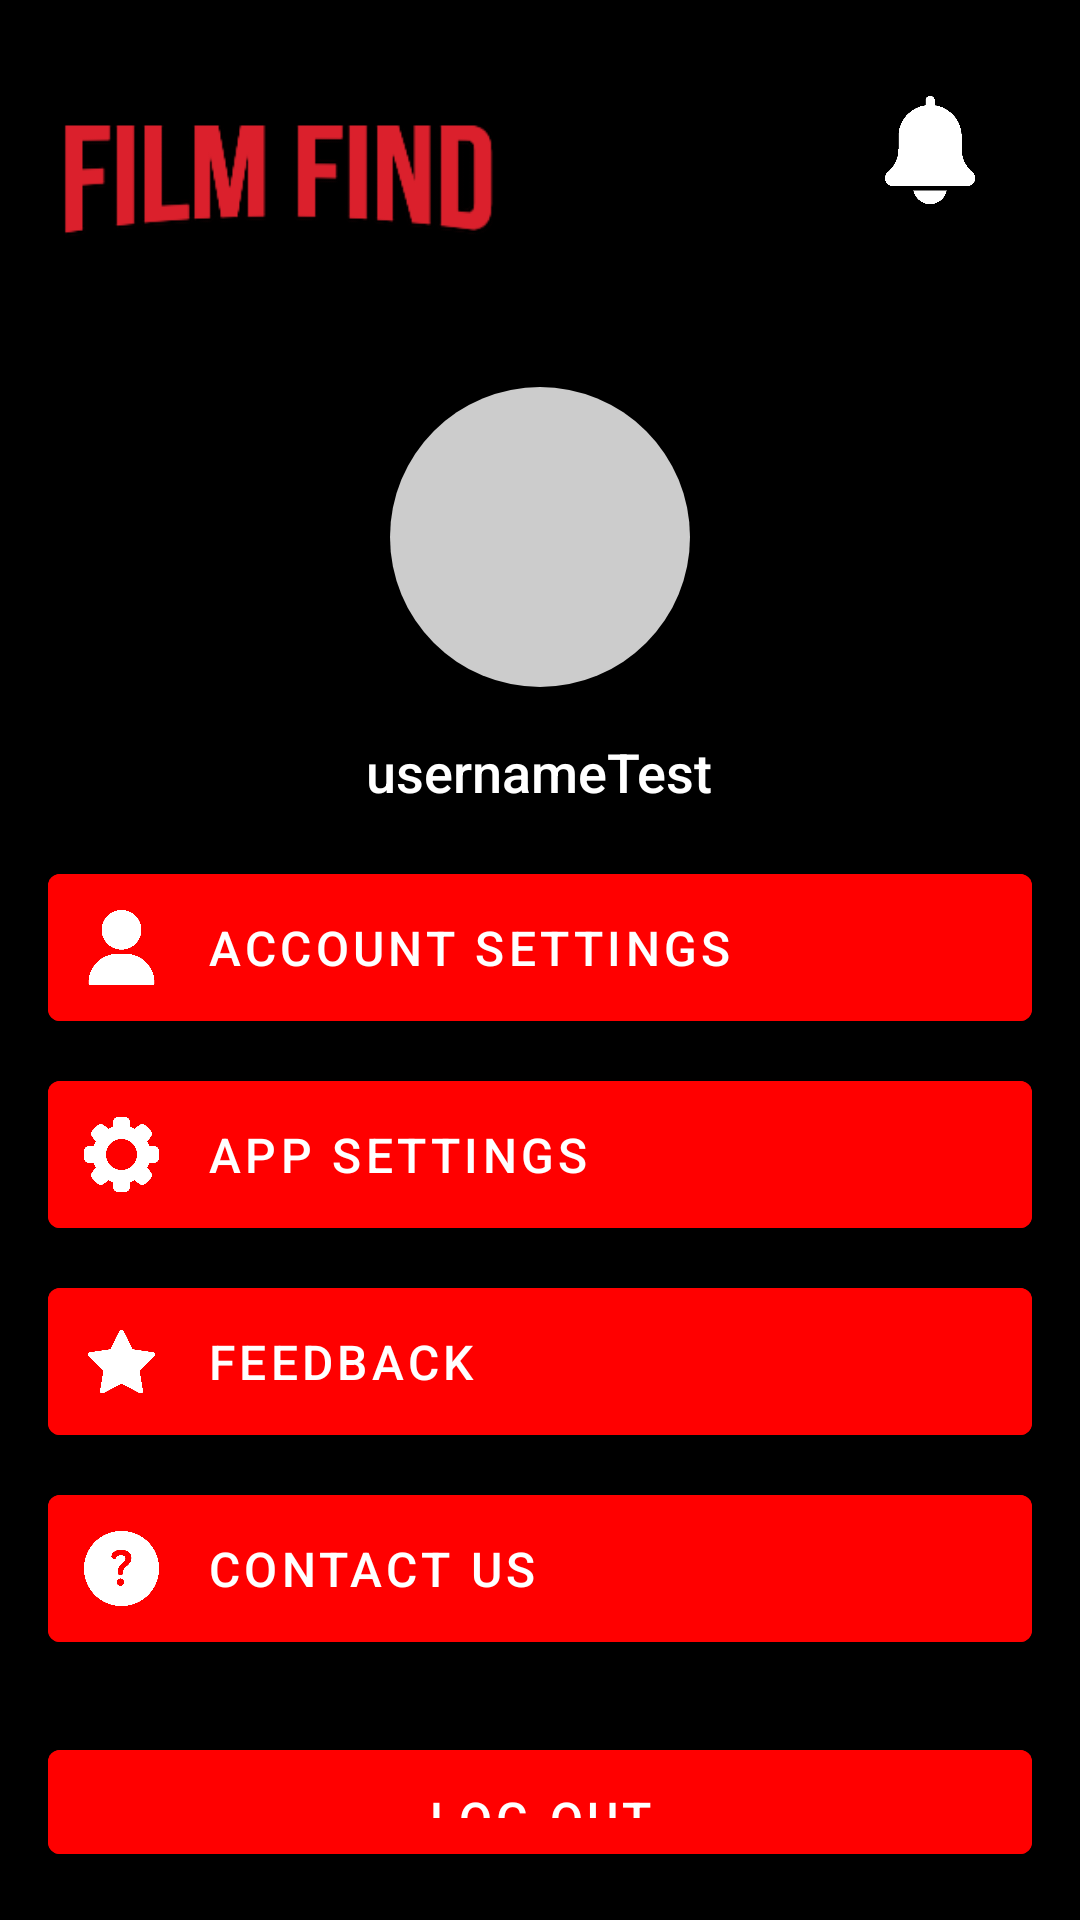

Icon bounding boxes for this 1080x1920 phone screenshot, format (x1, y1, x2, y2):
notification: (885, 96, 975, 204)
